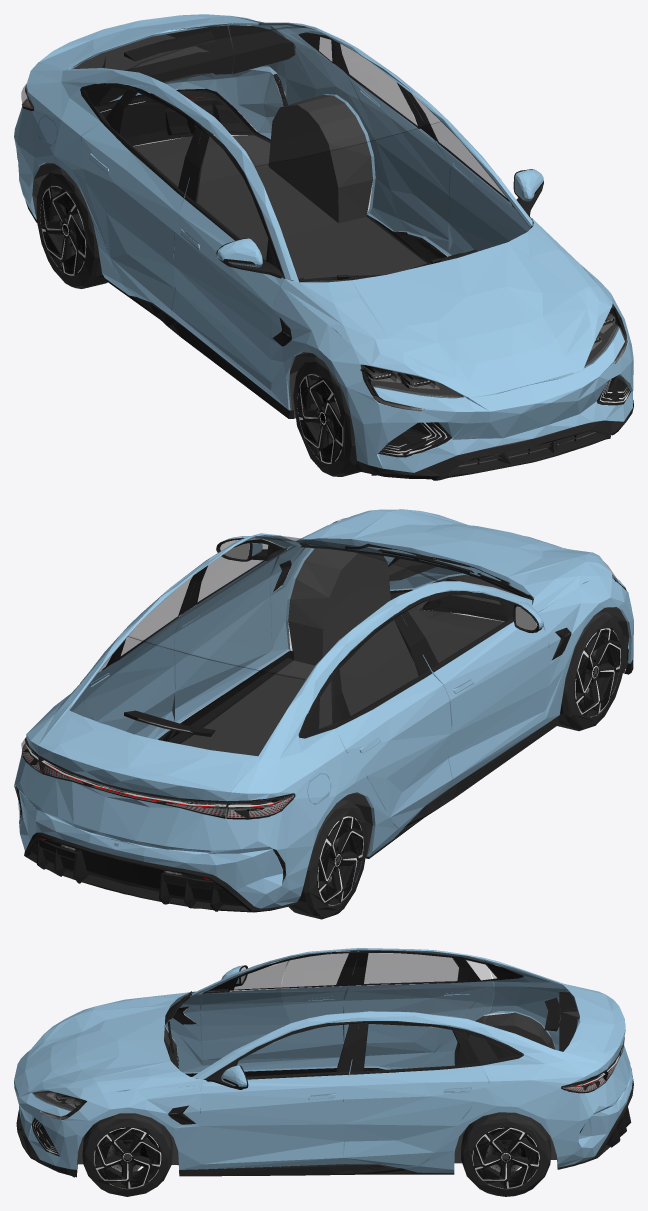
The model's file is car_taxi.glb.
3 renders of one model, top to bottom at view 1: azimuth 30°, elevation 25°; view 2: azimuth 150°, elevation 25°; view 3: azimuth 270°, elevation 25°, orthographic. The views are drawn at different scales.
Visible parts, largest first — view 1: bodypaint_A_Car_Paint_0, b_gls_glass1_0, UC_under_0, roof_gls_carp_2_0, blk.001_black_Col_Mat_0, Uc_Tail_light_Plas_0, tyre_tire_0, blk_B_Rim_0, crom_chrome1_0, alpha_rim_map_0, blk_rear_light_blk_map_C_Plas_0, blkmat_HL_Mat_0 (+1 smaller); view 2: bodypaint_A_Car_Paint_0, b_gls_glass1_0, roof_gls_carp_2_0, UC_under_0, blk.001_black_Col_Mat_0, tyre_tire_0, blk_B_Rim_0, Uc_Tail_light_Plas_0, light_cover_tail_light_0, crom_chrome1_0, alpha_rim_map_0, blk_rear_light_blk_map_C_Plas_0 (+2 smaller); view 3: bodypaint_A_Car_Paint_0, b_gls_glass1_0, blk.001_black_Col_Mat_0, roof_gls_carp_2_0, tyre_tire_0, blk_B_Rim_0, UC_under_0, alpha_rim_map_0, crom_chrome1_0, Uc_Tail_light_Plas_0, disk_phong27breaks_0, corner_corner1_0 (+2 smaller).
Boxes of the visible parts, bbox=[...] form: bodypaint_A_Car_Paint_0: bbox=[14, 14, 633, 472]; b_gls_glass1_0: bbox=[21, 23, 627, 410]; UC_under_0: bbox=[30, 25, 629, 475]; roof_gls_carp_2_0: bbox=[128, 26, 440, 166]; blk.001_black_Col_Mat_0: bbox=[16, 32, 633, 480]; Uc_Tail_light_Plas_0: bbox=[22, 25, 295, 110]; tyre_tire_0: bbox=[36, 168, 360, 476]; blk_B_Rim_0: bbox=[40, 186, 343, 463]; crom_chrome1_0: bbox=[25, 95, 629, 463]; alpha_rim_map_0: bbox=[43, 191, 341, 461]; blk_rear_light_blk_map_C_Plas_0: bbox=[98, 31, 541, 192]; blkmat_HL_Mat_0: bbox=[361, 312, 617, 397]; bodypaint_A_Car_Paint_0: bbox=[14, 509, 633, 908]; b_gls_glass1_0: bbox=[21, 535, 626, 880]; roof_gls_carp_2_0: bbox=[128, 536, 439, 679]; UC_under_0: bbox=[26, 548, 629, 908]; blk.001_black_Col_Mat_0: bbox=[15, 537, 633, 912]; tyre_tire_0: bbox=[288, 610, 624, 919]; blk_B_Rim_0: bbox=[317, 629, 620, 905]; Uc_Tail_light_Plas_0: bbox=[22, 737, 295, 819]; light_cover_tail_light_0: bbox=[22, 740, 293, 817]; crom_chrome1_0: bbox=[25, 628, 620, 905]; alpha_rim_map_0: bbox=[321, 630, 620, 899]; blk_rear_light_blk_map_C_Plas_0: bbox=[40, 710, 215, 880]; bodypaint_A_Car_Paint_0: bbox=[14, 948, 632, 1172]; b_gls_glass1_0: bbox=[32, 953, 624, 1119]; blk.001_black_Col_Mat_0: bbox=[16, 951, 633, 1177]; roof_gls_carp_2_0: bbox=[281, 950, 494, 1023]; tyre_tire_0: bbox=[82, 1112, 551, 1196]; blk_B_Rim_0: bbox=[94, 1127, 538, 1188]; UC_under_0: bbox=[34, 992, 600, 1177]; alpha_rim_map_0: bbox=[99, 1130, 537, 1186]; crom_chrome1_0: bbox=[33, 1049, 622, 1188]; Uc_Tail_light_Plas_0: bbox=[559, 992, 623, 1093]; disk_phong27breaks_0: bbox=[107, 1130, 527, 1171]; corner_corner1_0: bbox=[25, 959, 631, 1167].
Bounding box in the file's own units: 2.11 × 1.46 × 4.76.
Materials: 21 (6 with a texture image).
